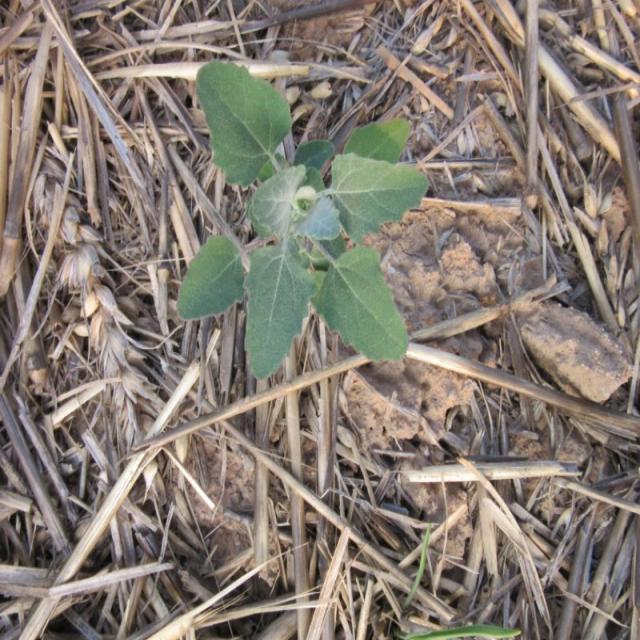ca: (180, 59, 428, 385)
